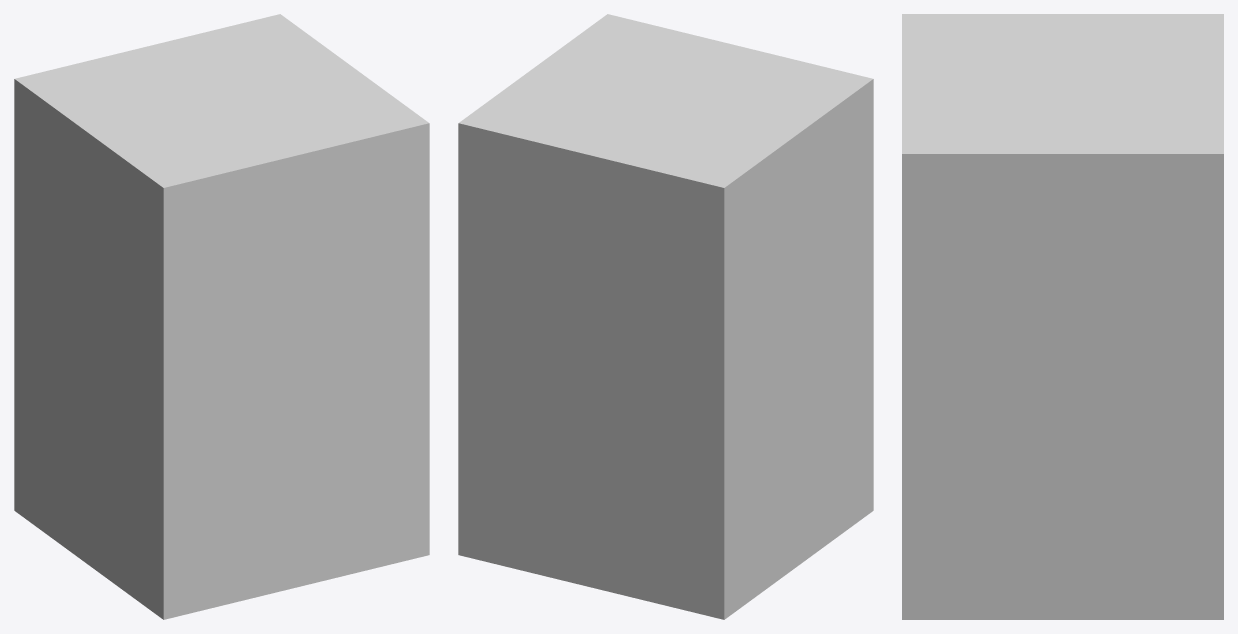
The model's file is Itr_Obj_Smallstickynote_Box_06.FBX.
3 renders of one model, left to right at view 1: azimuth 30°, elevation 25°; view 2: azimuth 150°, elevation 25°; view 3: azimuth 270°, elevation 25°, orthographic. The views are drawn at different scales.
Parts seen in each view (by area): view 1: Itr_Obj_Smallstickynote_Box_06; view 2: Itr_Obj_Smallstickynote_Box_06; view 3: Itr_Obj_Smallstickynote_Box_06.
Part boxes in pixels (left/top/right/bottom): Itr_Obj_Smallstickynote_Box_06: left=14, top=14, right=429, bottom=619; Itr_Obj_Smallstickynote_Box_06: left=458, top=14, right=873, bottom=619; Itr_Obj_Smallstickynote_Box_06: left=902, top=14, right=1223, bottom=619.
Size of the model in its own units: 0.8876 by 1.38 by 0.8625.
